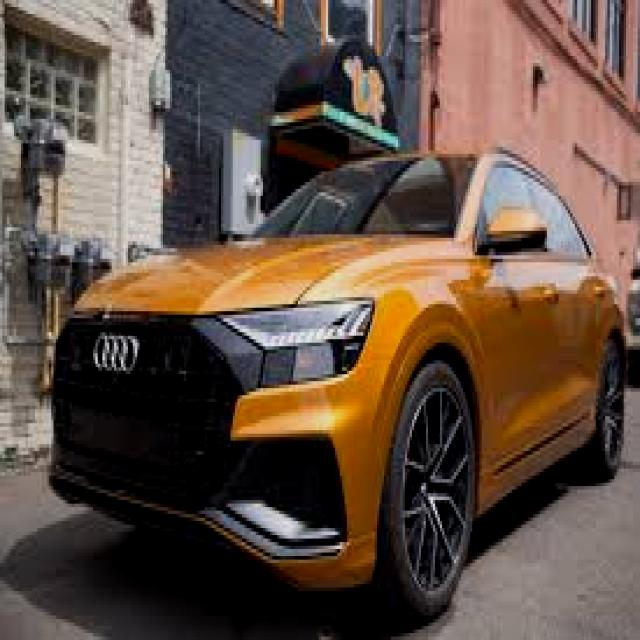SUV: (44, 140, 628, 622)
